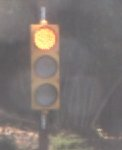Red: (27, 15, 66, 121)
